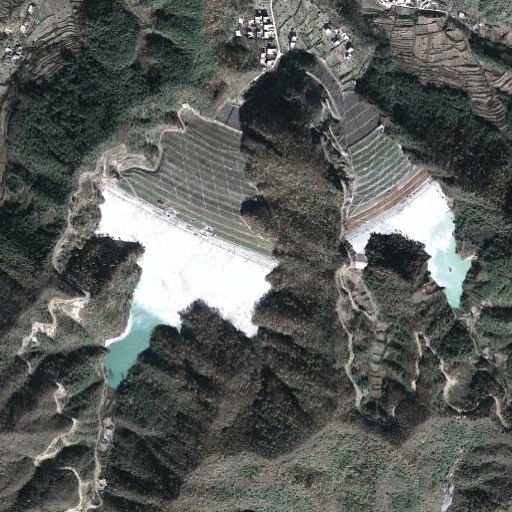tp: (97, 104, 276, 388), (339, 93, 472, 310)
